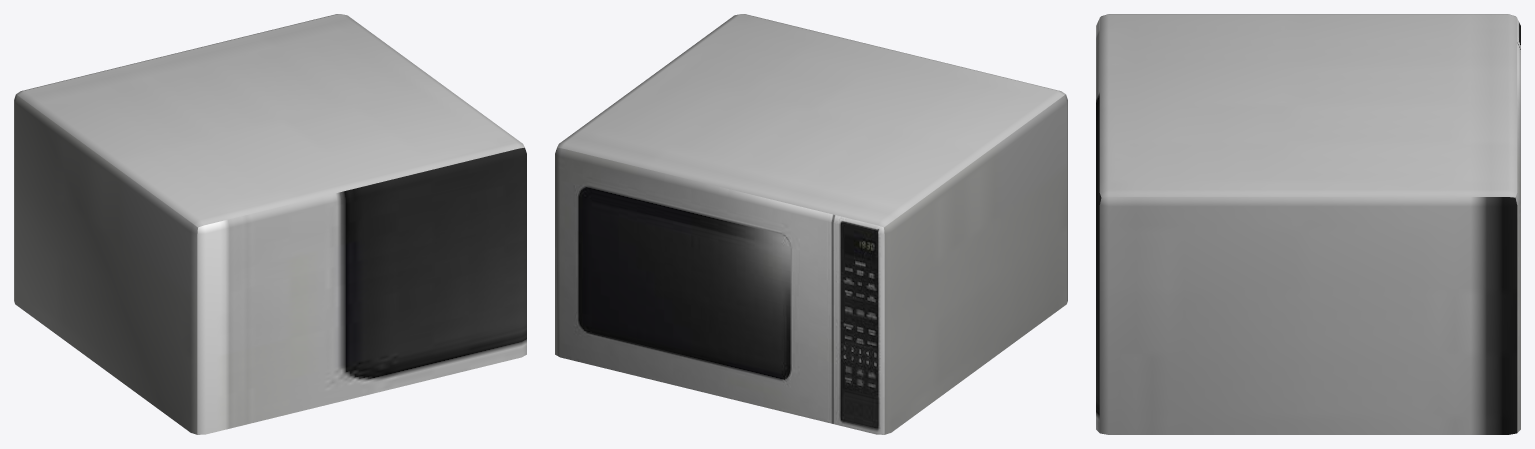
File: microondas.fbx
3 views of the same model, side by side, from view 1: azimuth 30°, elevation 25°; view 2: azimuth 150°, elevation 25°; view 3: azimuth 270°, elevation 25° (orthographic). The views are drawn at different scales.
Visible parts, largest first — view 1: microondas; view 2: microondas; view 3: microondas.
Part boxes in pixels (x1,y1,x2,y2): microondas: (14,14,526,434); microondas: (555,14,1067,434); microondas: (1096,14,1520,434).
Bounding box in the file's own units: 115 × 69.38 × 111.
